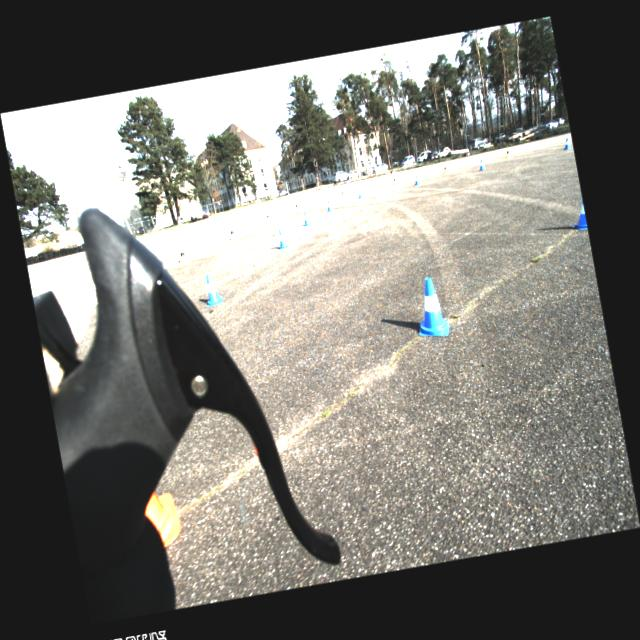blue_cone: (410, 275, 450, 339), (200, 272, 224, 306), (567, 199, 587, 231), (275, 228, 288, 249), (301, 210, 311, 226), (562, 137, 572, 149), (325, 199, 333, 211), (478, 158, 486, 170), (356, 187, 364, 198), (413, 173, 420, 184)
orange_cone: (140, 488, 182, 549)
yellow_cone: (178, 246, 188, 264), (228, 225, 237, 240), (264, 209, 272, 222), (442, 162, 448, 174), (504, 147, 511, 157), (294, 201, 300, 212), (392, 176, 397, 185), (340, 189, 345, 197)
